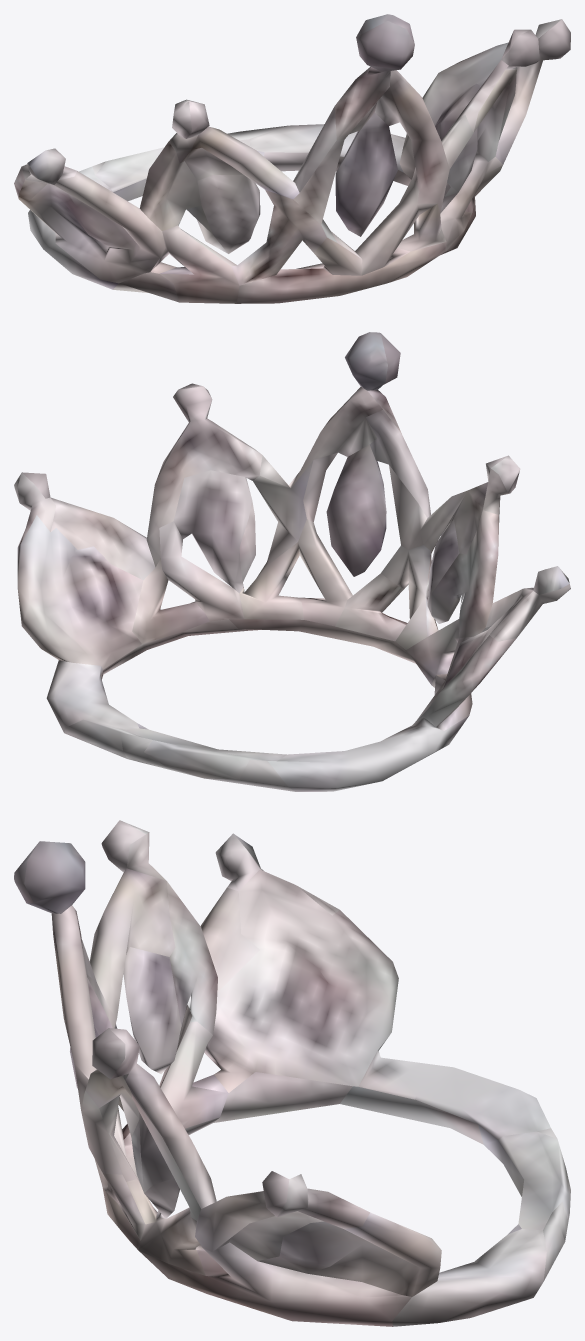
The picture shows the model from 3 angles, top to bottom: view 1: azimuth 30°, elevation 25°; view 2: azimuth 150°, elevation 25°; view 3: azimuth 270°, elevation 25°; orthographic projection. The views are drawn at different scales.
Visible parts, largest first — view 1: Silver-Tiara-01; view 2: Silver-Tiara-01; view 3: Silver-Tiara-01.
Boxes of the visible parts, left/top/right/bottom form: Silver-Tiara-01: left=14, top=14, right=570, bottom=303; Silver-Tiara-01: left=14, top=332, right=570, bottom=791; Silver-Tiara-01: left=14, top=820, right=570, bottom=1326.
Bounding box in the file's own units: 0.3349 × 0.1769 × 0.2333.
Materials: 1 (1 with a texture image).
